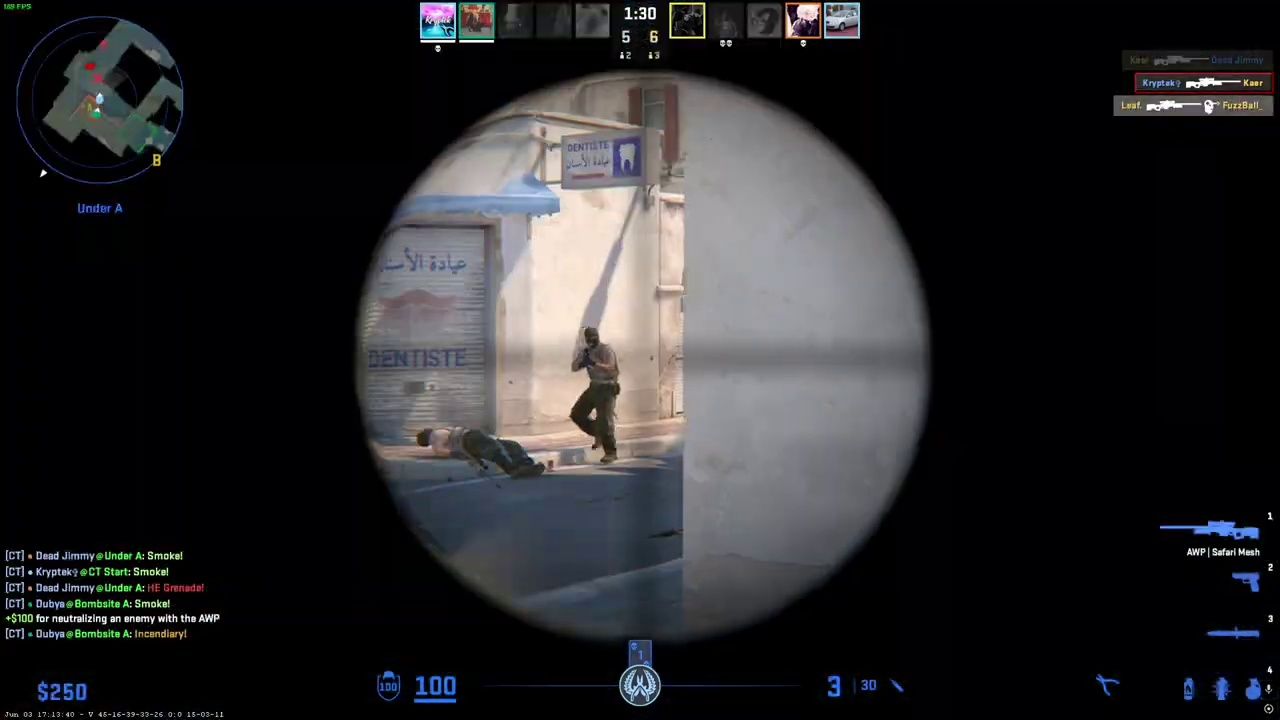Terrorist: (570, 326, 620, 463)
